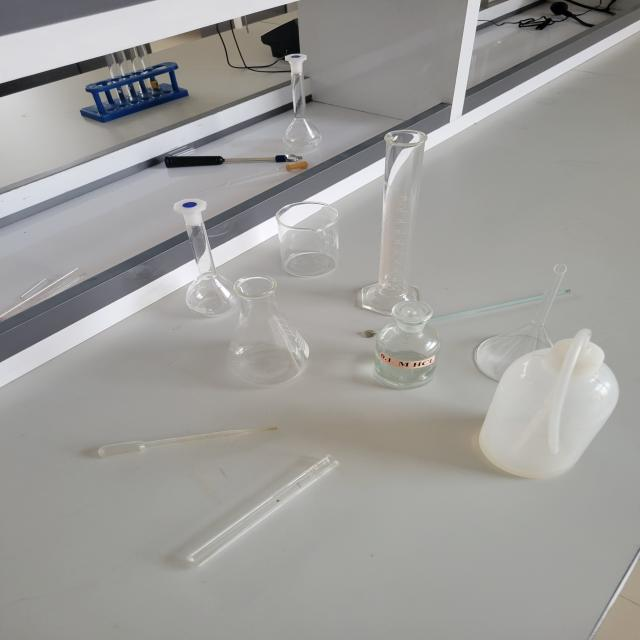Beaker: (264, 194, 352, 285)
Conical_Flask: (217, 274, 328, 398)
Pipette: (82, 409, 296, 473)
Reagent_Bottle: (361, 298, 446, 400)
TestTube_Holder: (158, 150, 313, 179)
Test_Tube: (158, 440, 370, 585)
Volumetric_Flask: (267, 48, 333, 155)
Wash_Bottle: (457, 323, 636, 496)
